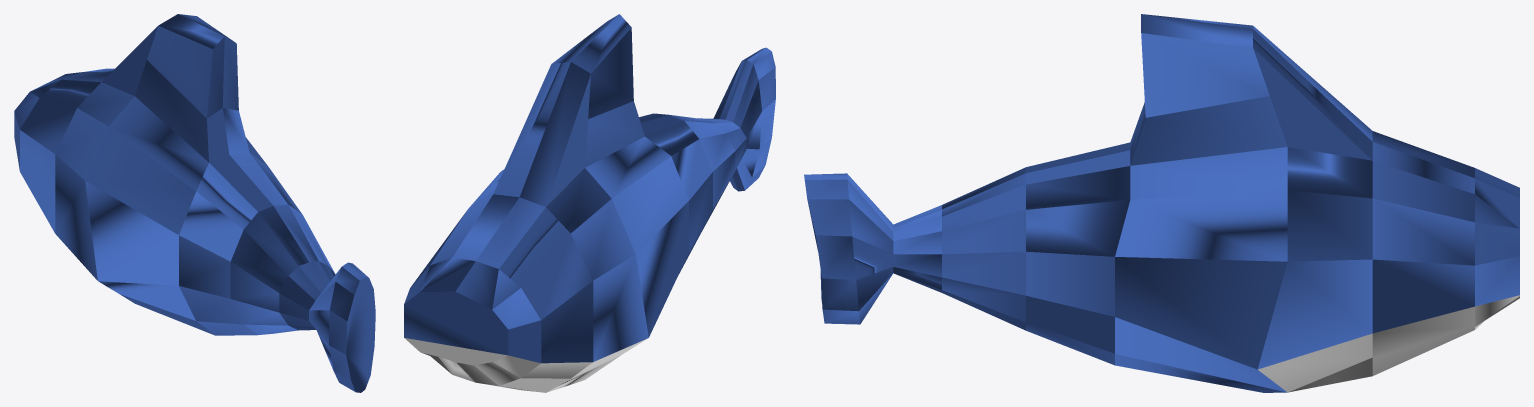
File: fish05.fbx
The picture shows the model from 3 angles, left to right: view 1: azimuth 30°, elevation 25°; view 2: azimuth 150°, elevation 25°; view 3: azimuth 270°, elevation 25°; orthographic projection. The views are drawn at different scales.
Parts seen in each view (by area): view 1: Cube; view 2: Cube; view 3: Cube.
Boxes of the visible parts, x1,y1,x2,y2 form: Cube: (14,14,375,392); Cube: (404,14,775,392); Cube: (804,14,1519,392).
Bounding box in the file's own units: 50.42 × 95.9 × 169.
